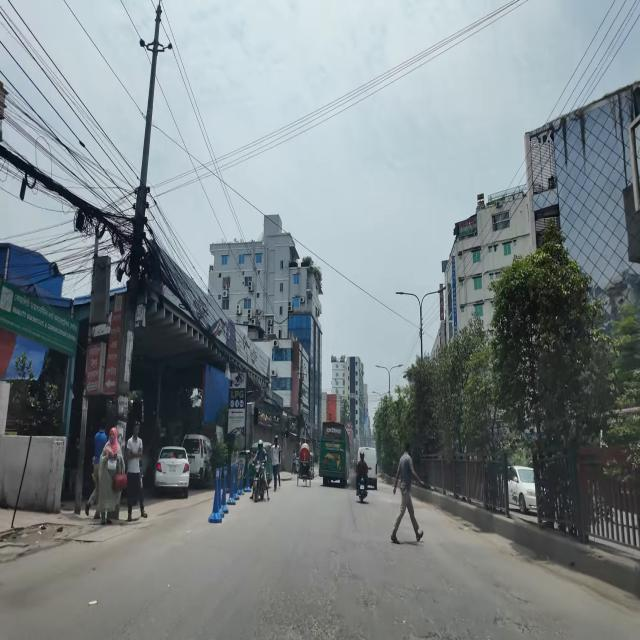person: (391, 443, 424, 544)
